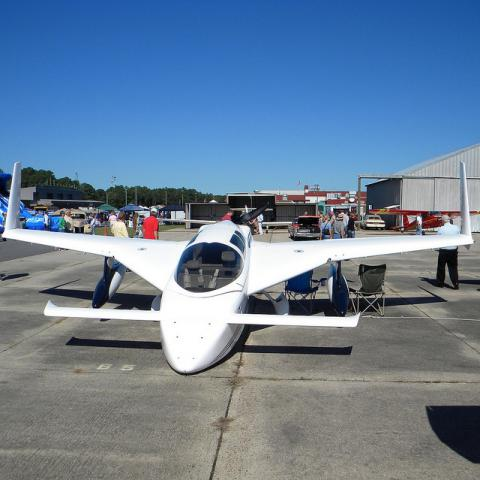car: (287, 215, 322, 241), (70, 211, 94, 234), (361, 215, 386, 230)
